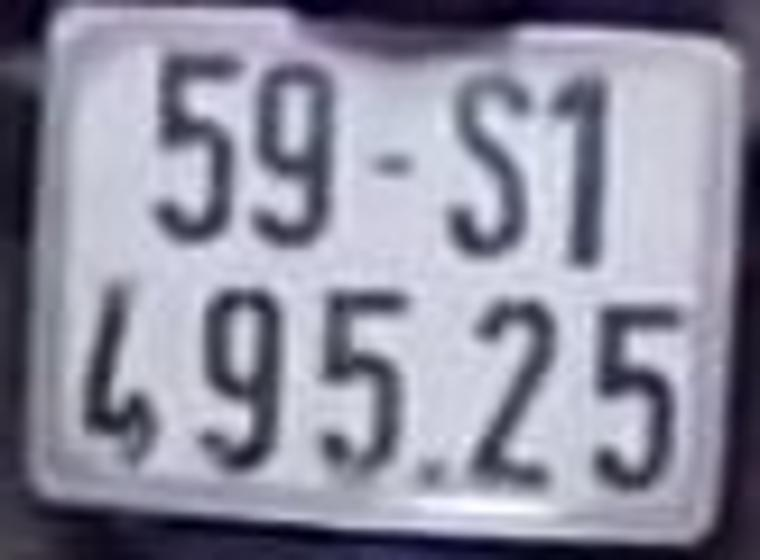-: (366, 144, 425, 192)
.: (417, 454, 452, 494)
1: (547, 64, 620, 272)
2: (465, 291, 567, 499)
4: (79, 270, 176, 472)
5: (592, 291, 695, 507), (148, 49, 244, 246), (319, 284, 412, 482)
9: (250, 52, 341, 253), (198, 277, 286, 481)
S: (442, 62, 542, 264)
